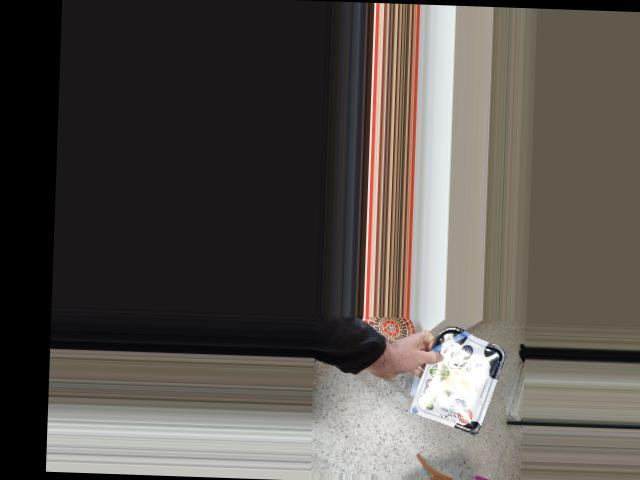cheese: (427, 331, 496, 423)
